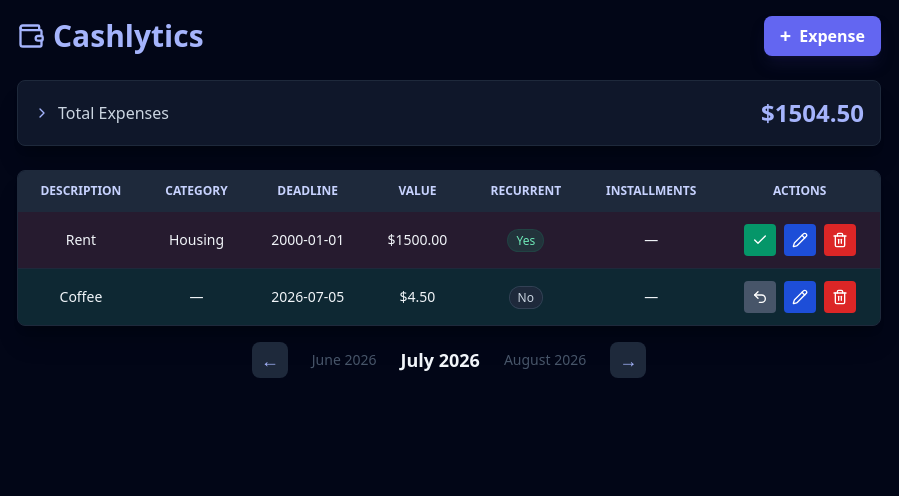
it: Home › expands the total card to show the breakdown
The image size is (899, 496).
Expected: the text "Rent" is shown, [18,212,144,268]
Expected: the text "Already paid" is not shown
Click the button with aria-label "toggle total breakdown": (113, 113) [18,81,880,145]
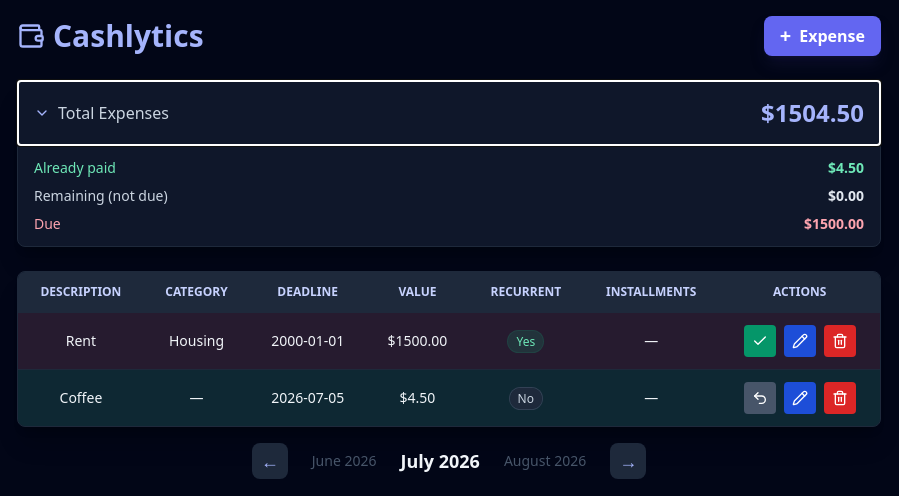
Expected: the text "Remaining (not due)" is shown, [34,186,168,206]
Expected: the text "Already paid" shows "$4.50", [34,158,864,178]
Expected: the text "Due" shows "$1500.00", [34,214,864,234]
